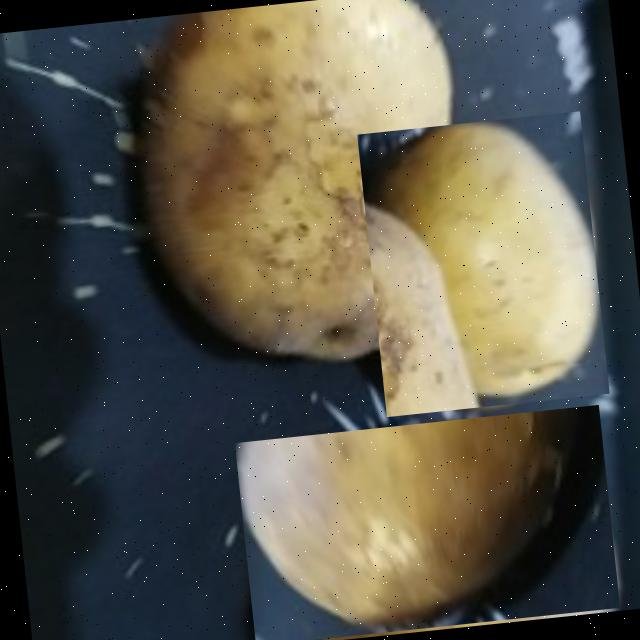Damaged potato: (105, 0, 483, 385), (234, 403, 619, 640)
Potato: (357, 110, 609, 416)
